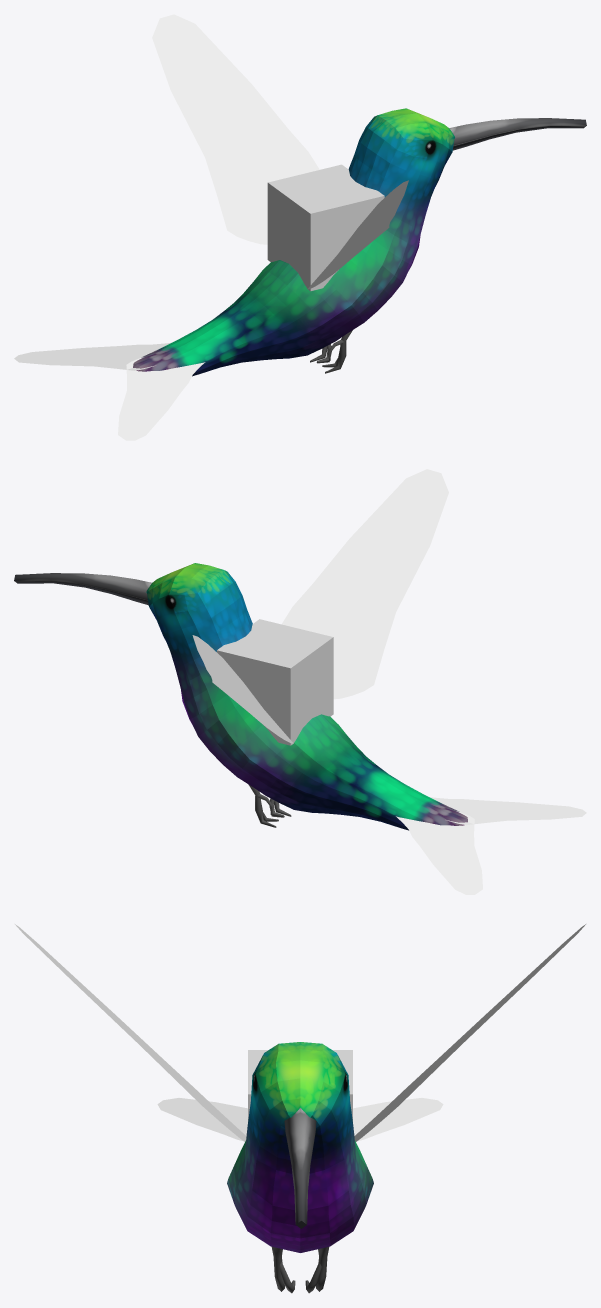
The model's file is Hummingbird.glb.
3 views of the same model, one above another, from view 1: azimuth 30°, elevation 25°; view 2: azimuth 150°, elevation 25°; view 3: azimuth 270°, elevation 25° (orthographic). The views are drawn at different scales.
Parts seen in each view (by area): view 1: Cube.001, Plane.003, Cube, Plane.004, NurbsPath.004; view 2: Cube.001, Plane.003, Cube, Plane.004, NurbsPath.004; view 3: Cube.001, Plane.003, Plane.004, NurbsPath.004, Cube, NurbsPath.005.
Part boxes in pixels (bbox=[...]): Cube.001: bbox=[133, 108, 454, 376]; Plane.003: bbox=[152, 14, 408, 289]; Cube: bbox=[267, 164, 384, 291]; Plane.004: bbox=[14, 342, 205, 440]; NurbsPath.004: bbox=[449, 118, 586, 150]; Cube.001: bbox=[146, 563, 467, 830]; Plane.003: bbox=[192, 469, 448, 743]; Cube: bbox=[217, 619, 333, 745]; Plane.004: bbox=[396, 797, 586, 894]; NurbsPath.004: bbox=[14, 573, 151, 605]; Cube.001: bbox=[227, 1042, 373, 1252]; Plane.003: bbox=[15, 924, 585, 1141]; Plane.004: bbox=[157, 1098, 443, 1141]; NurbsPath.004: bbox=[284, 1108, 316, 1228]; Cube: bbox=[248, 1050, 352, 1121]; NurbsPath.005: bbox=[271, 1247, 329, 1291].
Size of the model in its own units: 13.99 by 7.16 by 10.94.
Materials: 5 (2 with a texture image).
